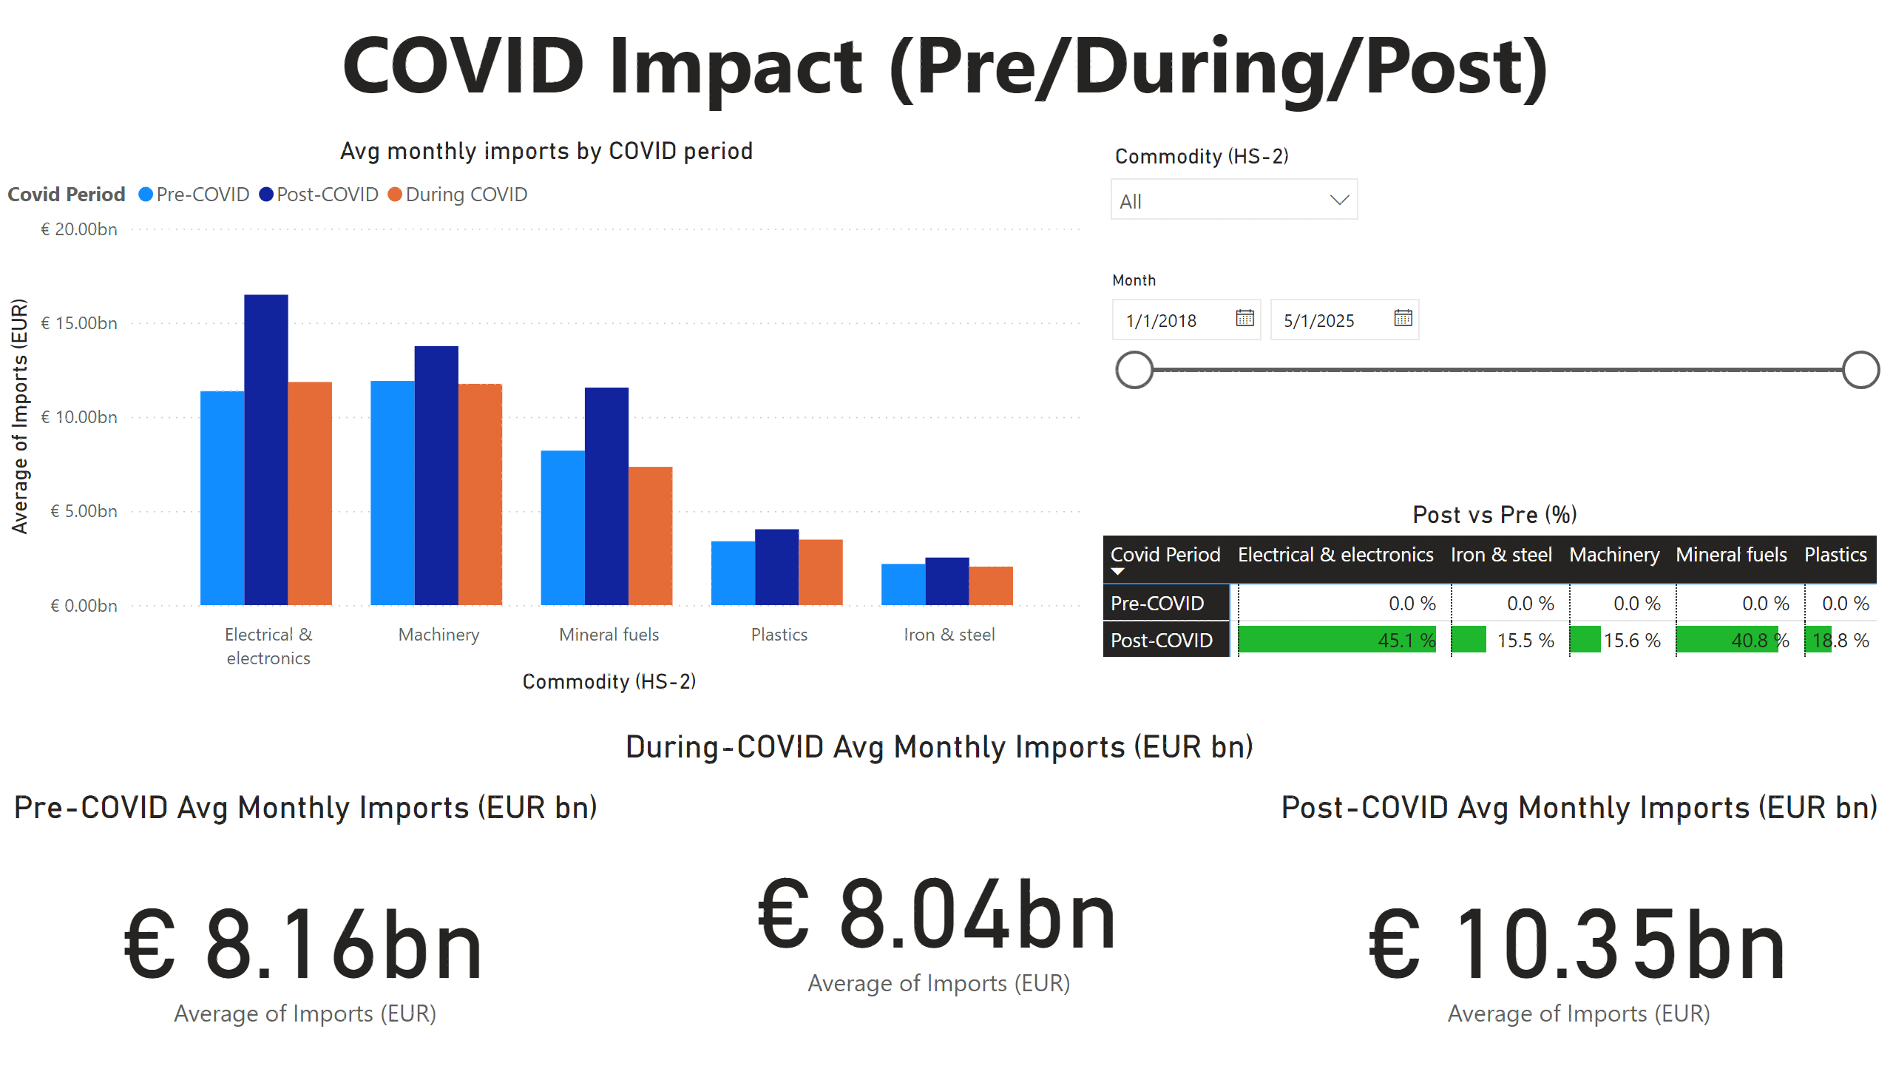

Layout of this report page (visuals, bound fields, positions):
{"tool":"powerbi","page":{"name":"COVID Impact (Pre / During / Post)","canvas":[1280,720],"ordinal":3},"visuals":[{"type":"clusteredColumnChart","title":"Avg monthly imports by COVID period","fields":{"Category":["gold_monthly_metrics.cmdDesc"],"Series":["gold_monthly_metrics.covid_period"],"Y":["Avg(gold_monthly_metrics.import_eur)"]},"box":[0,92.2,739.2,381.3],"z":0},{"type":"pivotTable","title":"Post vs Pre (%)","fields":{"Rows":["gold_monthly_metrics.covid_period"],"Columns":["gold_monthly_metrics.cmdDesc"],"Values":["Avg(gold_monthly_metrics.import_eur)","select1"]},"box":[740.8,337.6,539.2,136],"z":1000},{"type":"card","title":"Pre-COVID Avg Monthly Imports (EUR bn)","fields":{"Values":["Avg(gold_monthly_metrics.import_eur)"]},"box":[0,532.9,412.6,187.5],"z":2000},{"type":"card","title":"During-COVID Avg Monthly Imports (EUR bn)","fields":{"Values":["Avg(gold_monthly_metrics.import_eur)"]},"box":[412.6,492.3,443.9,228.2],"z":3000},{"type":"card","title":"Post-COVID Avg Monthly Imports (EUR bn)","fields":{"Values":["Avg(gold_monthly_metrics.import_eur)"]},"box":[856.5,532.9,423.5,187.5],"z":4000},{"type":"actionButton","box":[0,0,100,40],"z":5000},{"type":"slicer","fields":{"Values":["gold_monthly_metrics.cmdDesc"]},"box":[740.8,92.2,187.5,86],"z":6000},{"type":"slicer","fields":{"Values":["gold_monthly_metrics.month"]},"box":[739.2,178.2,540.8,86],"z":7000},{"type":"textbox","box":[0,0,1280,81.3],"z":7001}]}

Visuals, with their boxes in screenshot pixels (x1, y1, x2, y2), scaled from the page's 1280x720 canvas onto the 1894x1080 screenshot:
"Avg monthly imports by COVID period" clusteredColumnChart: l=0, t=138, r=1094, b=710
"Post vs Pre (%)" pivotTable: l=1096, t=506, r=1893, b=710
"Pre-COVID Avg Monthly Imports (EUR bn)" card: l=0, t=799, r=611, b=1079
"During-COVID Avg Monthly Imports (EUR bn)" card: l=611, t=738, r=1267, b=1079
"Post-COVID Avg Monthly Imports (EUR bn)" card: l=1267, t=799, r=1893, b=1079
actionButton: l=0, t=0, r=148, b=60
slicer - gold_monthly_metrics.cmdDesc: l=1096, t=138, r=1374, b=267
slicer - gold_monthly_metrics.month: l=1094, t=267, r=1893, b=396
textbox: l=0, t=0, r=1893, b=122
